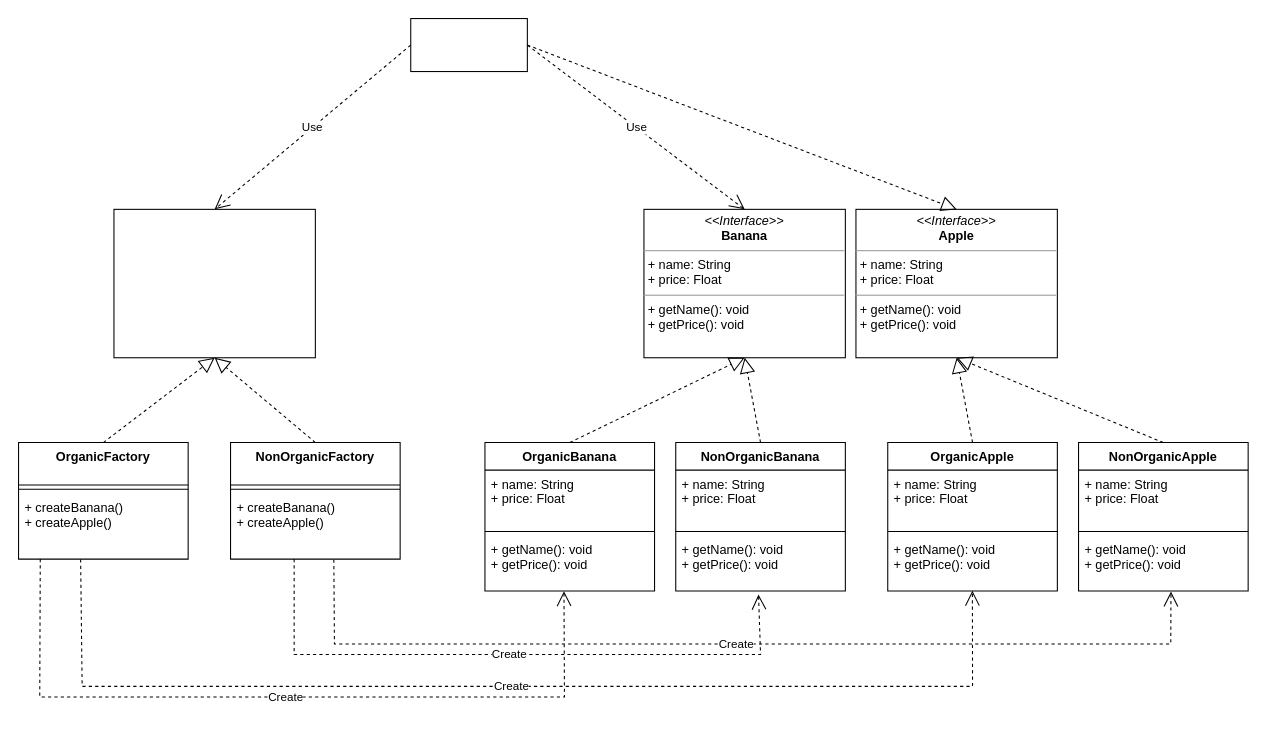
Some shapes in this 1267 by 730 pixel diagram are drawn without their labels. The shapes that lost their labels are listed below. From the top down, each one's centre as x and y in pixels, then its label:
At pixel 468 44: "Client".
At pixel 214 283: "<<Interface>> GroceryProductFactory + createBanana() + createApple()".
